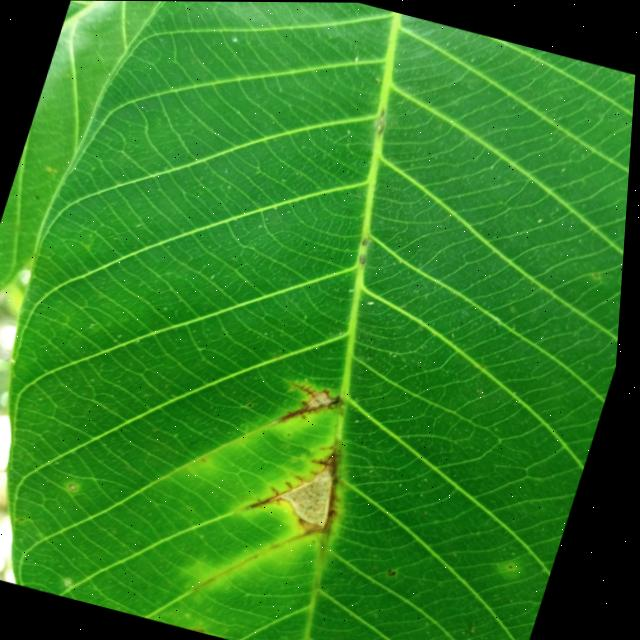Corynespora: (249, 430, 364, 544), (282, 377, 349, 436)
Leaf-Blight: (283, 462, 347, 526)
